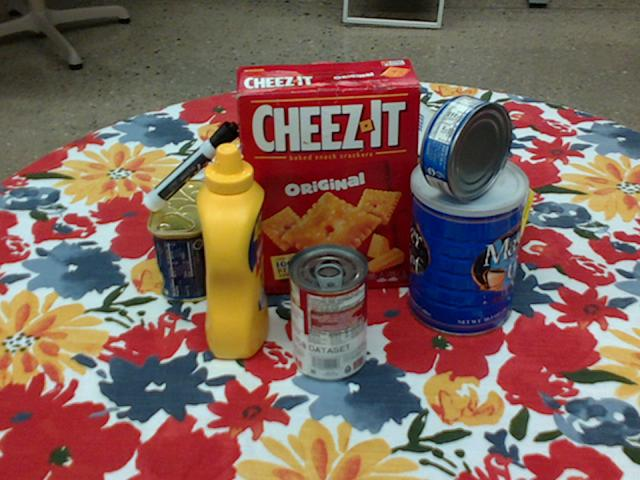cracker_box: (238, 60, 423, 294)
gelatin_box: (173, 157, 259, 244)
large_marker: (143, 120, 240, 210)
master_chef_can: (410, 153, 526, 339)
mug: (325, 123, 409, 222)
mustard_bottle: (196, 143, 267, 359)
potted_meat_can: (147, 179, 216, 302)
sugar_box: (369, 96, 536, 258)
tomato_soup_can: (287, 243, 367, 382)
tuna_fish_can: (423, 95, 513, 201)
